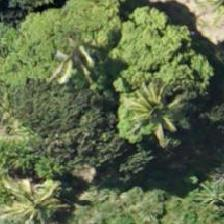coconut_tree: (0, 159, 86, 223)
